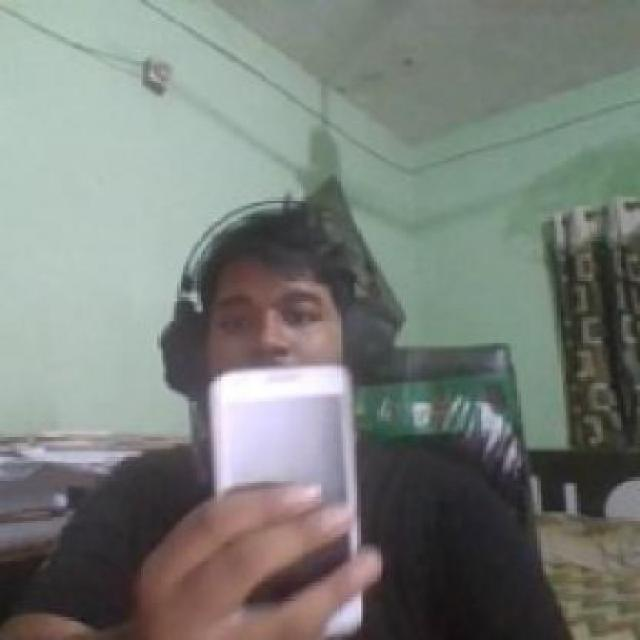Phone: (205, 368, 362, 632)
